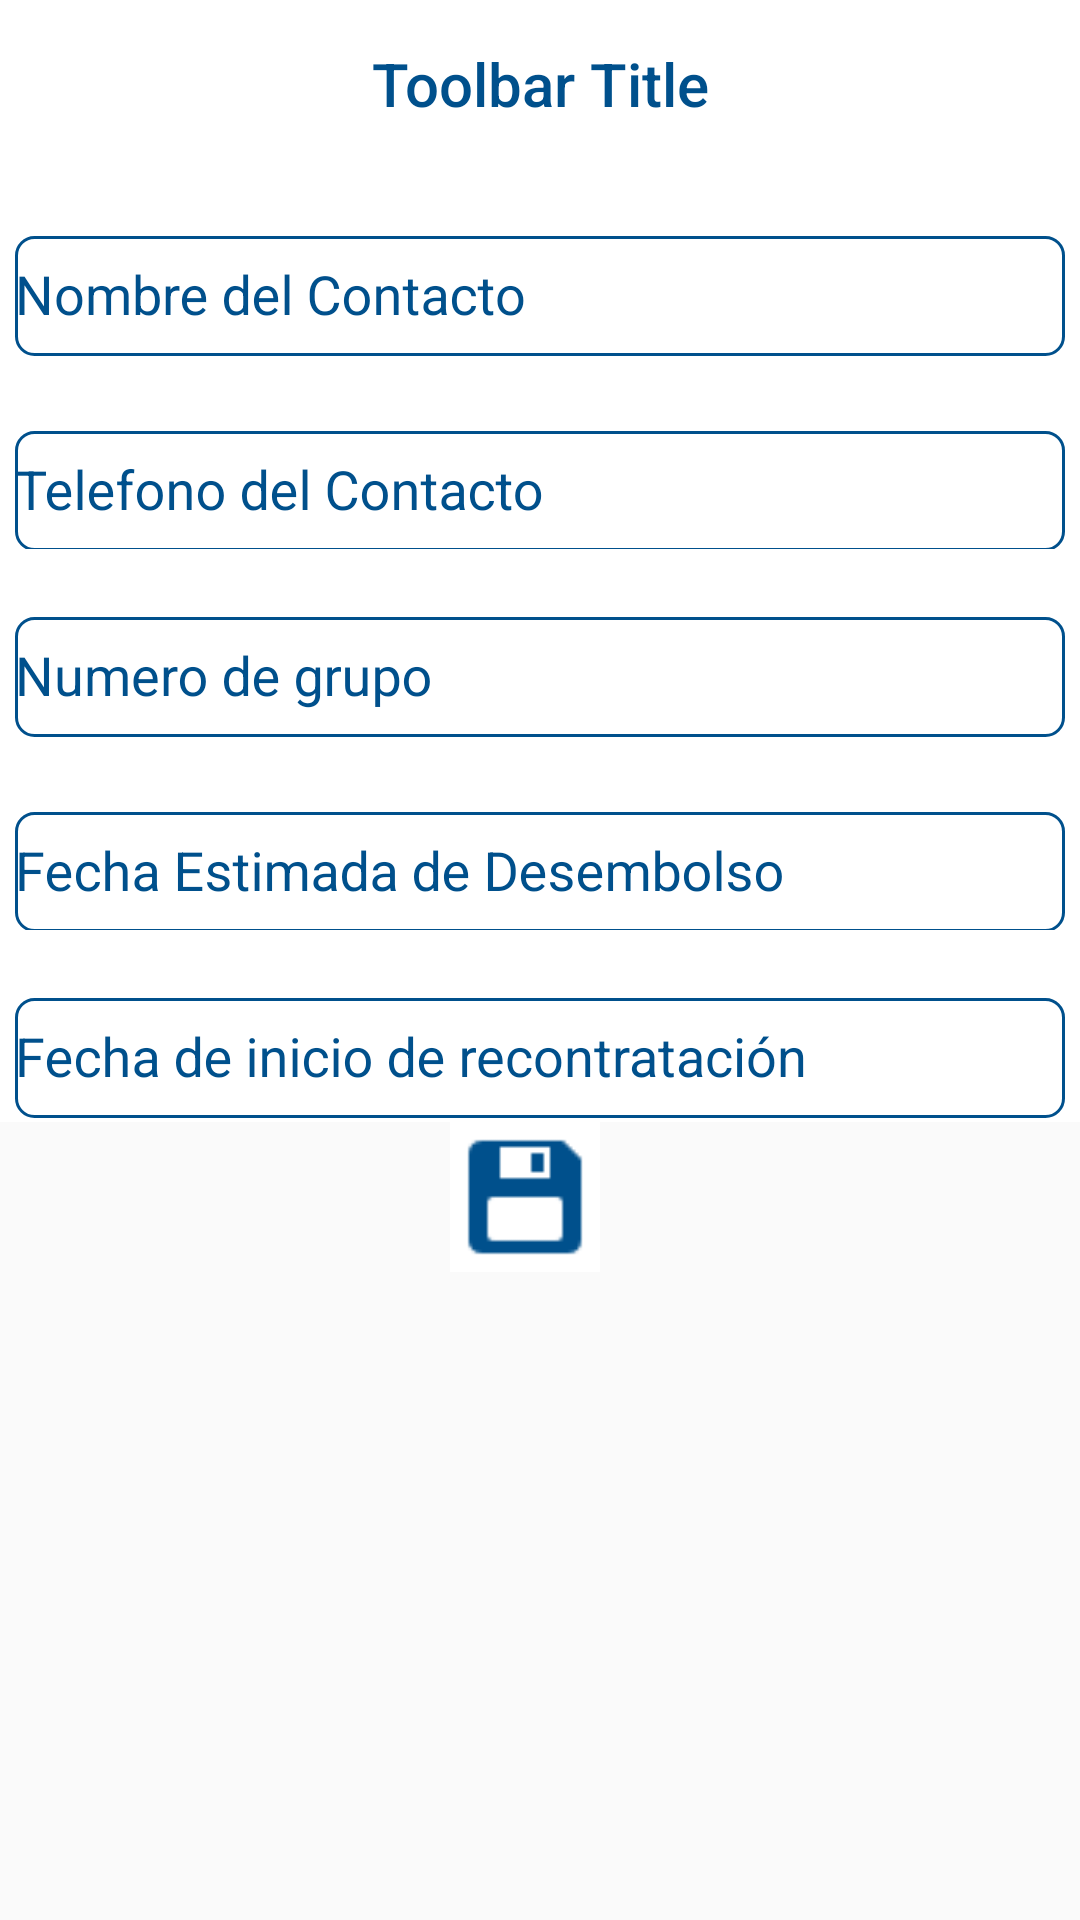

Where to tap for icons on this 1080 x 1920 app screen, as (x=x, y=y):
iconsave: (x=525, y=1197)
